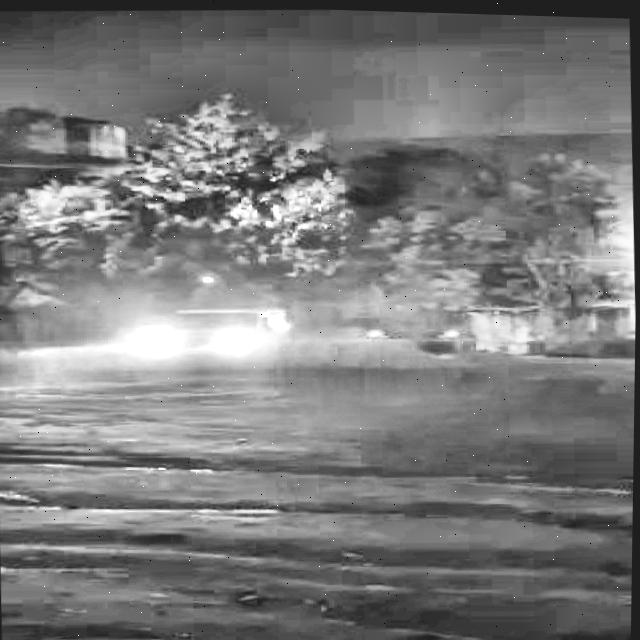light_vehicle: (130, 298, 304, 366)
